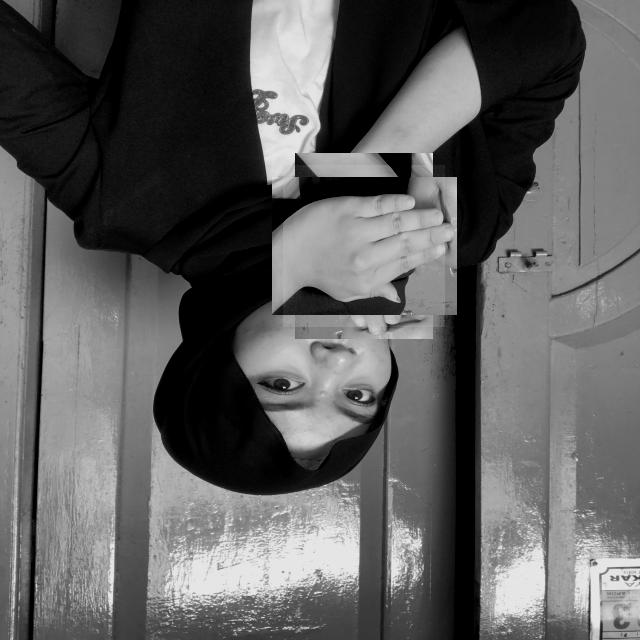ganteng: (283, 165, 445, 327)
